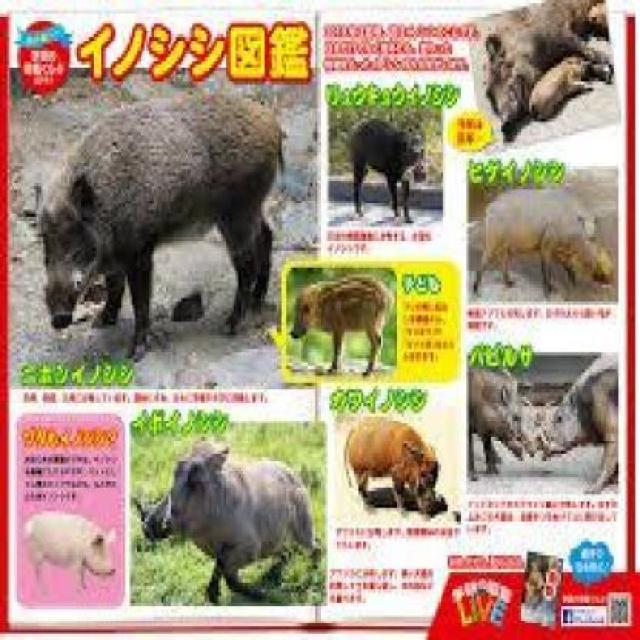wildboar: (31, 84, 300, 364), (131, 434, 327, 608), (473, 0, 624, 149), (465, 183, 618, 302), (530, 330, 632, 484), (339, 399, 466, 515), (291, 264, 397, 376), (22, 502, 123, 606), (464, 348, 534, 486), (348, 115, 437, 212)
